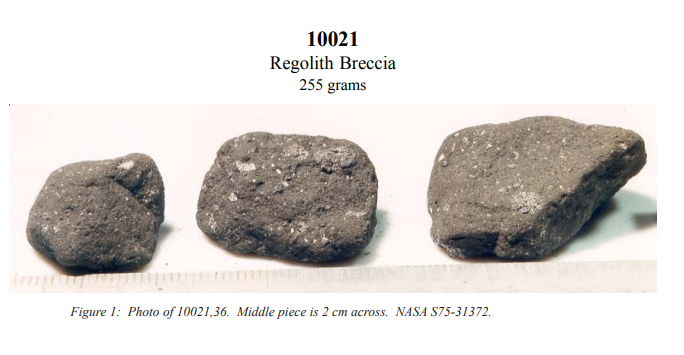Breccia: (426, 112, 659, 269), (194, 113, 428, 258), (16, 148, 178, 269)
